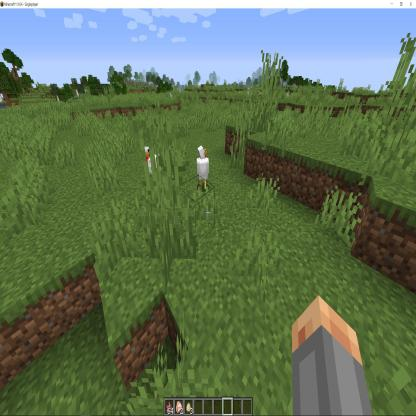minecraft-pigs: (143, 144, 164, 181), (196, 144, 210, 192)
